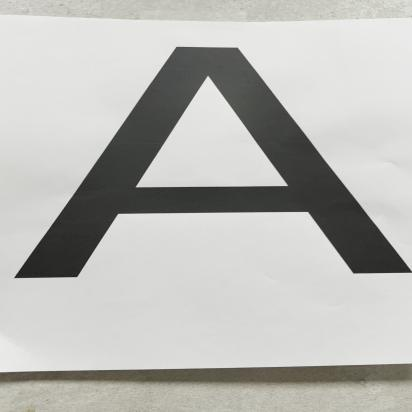seat: (9, 30, 412, 324), (8, 27, 412, 314), (0, 28, 412, 302)
